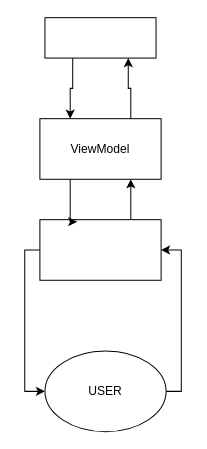
Some shapes in this 207 by 449 pixel diagram are drawn without their labels. The shapes that lost their labels are listed below. From the top down, each one's centre as x and y in pixels, then its label:
At point (100, 37): "Model".
At point (100, 249): "View".
